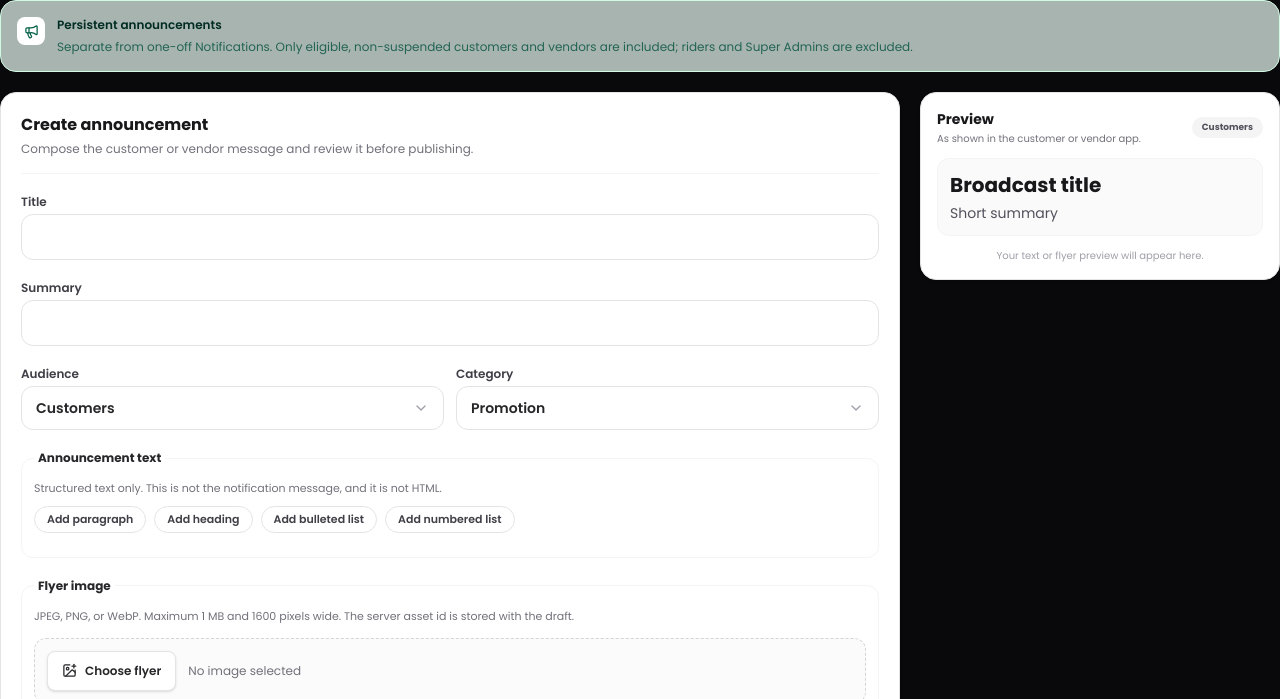
it: Super Admin broadcast › reuses the idempotency key when publish fails and shows a zero-recipient result
Type "Weekend offer" into the field labelled "Title" at (450, 237), box [21, 214, 879, 260]
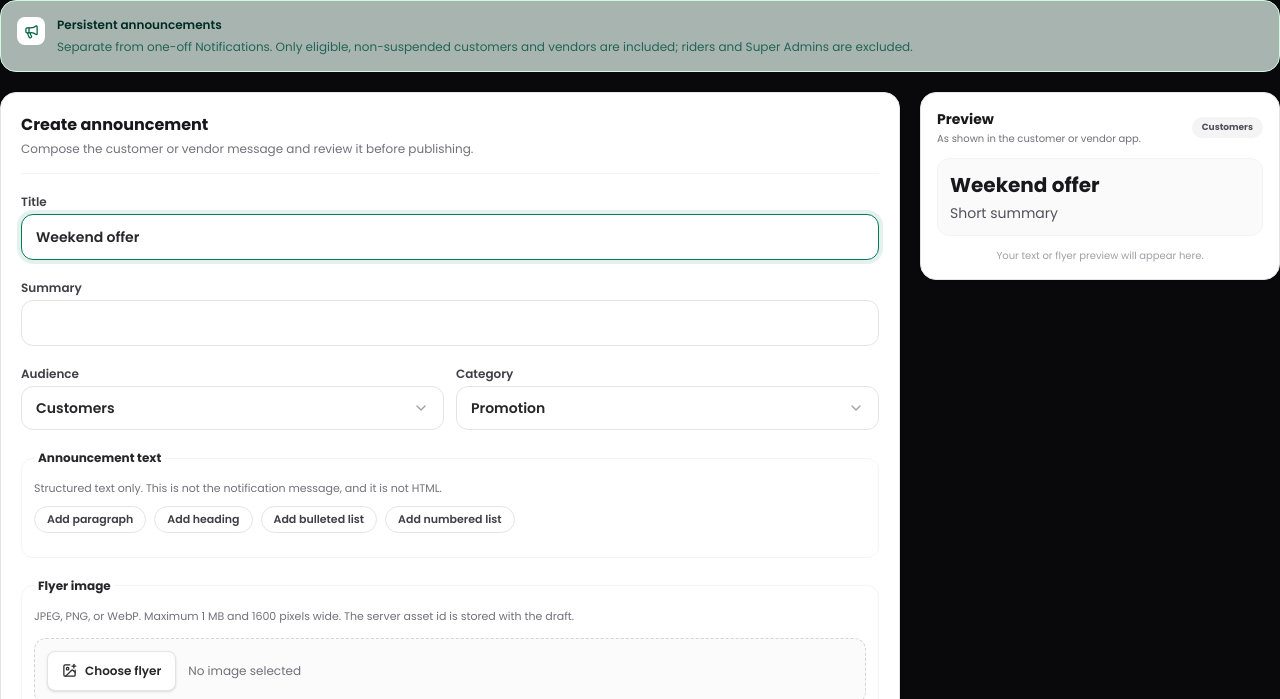
Type "See this weekend’s offer" into the field labelled "Summary" at (450, 323), box [21, 300, 879, 346]
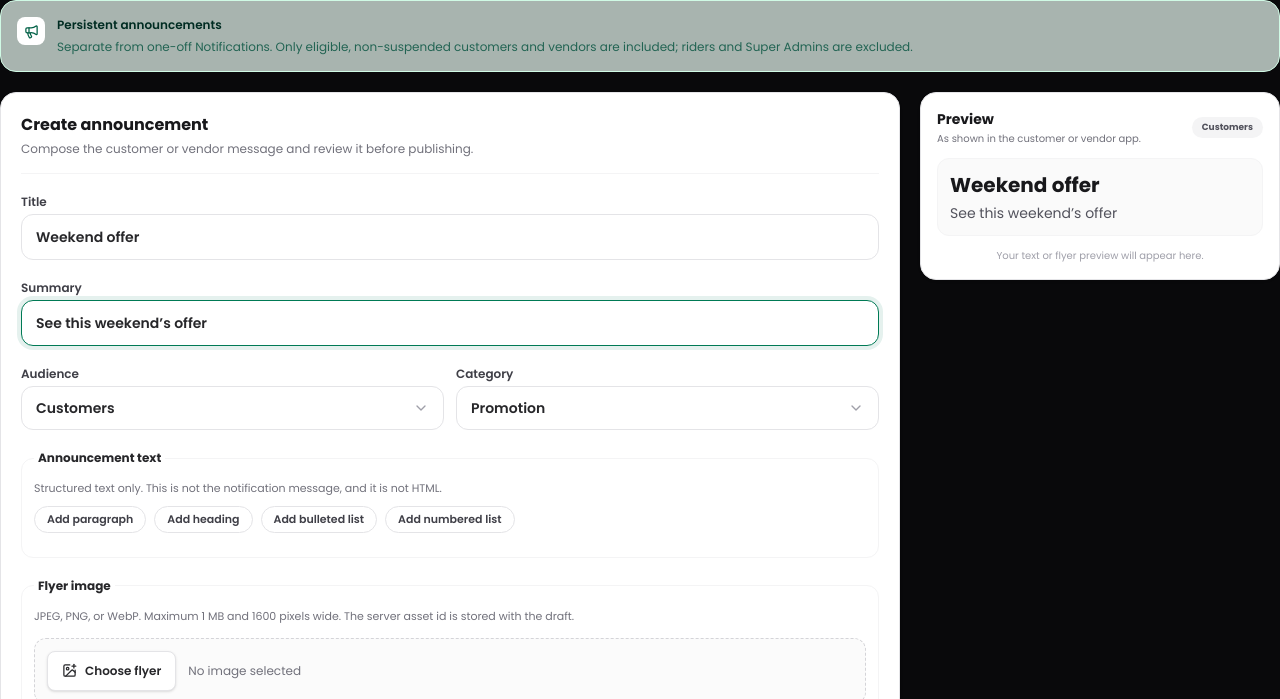
Click the button "Add paragraph" at (90, 519), box [34, 506, 146, 532]
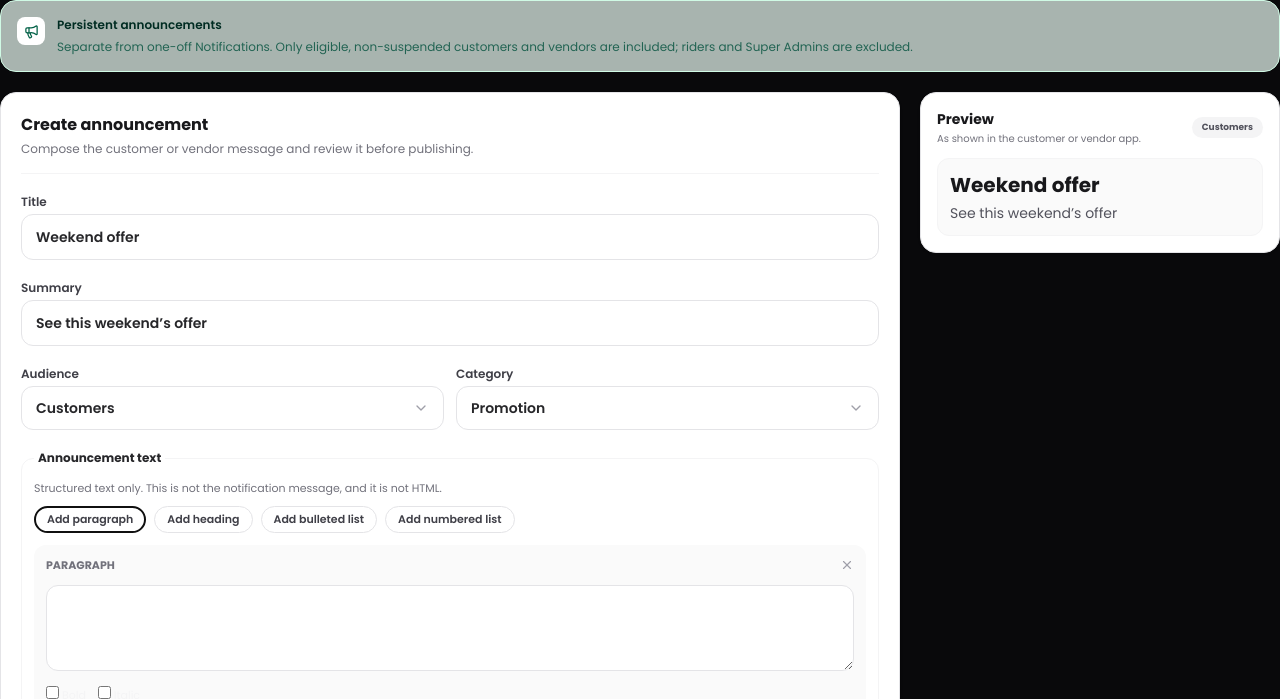
Type "Hello" into the text box named "Block text 1" at (450, 628), box [46, 585, 854, 671]
(page scrolled)
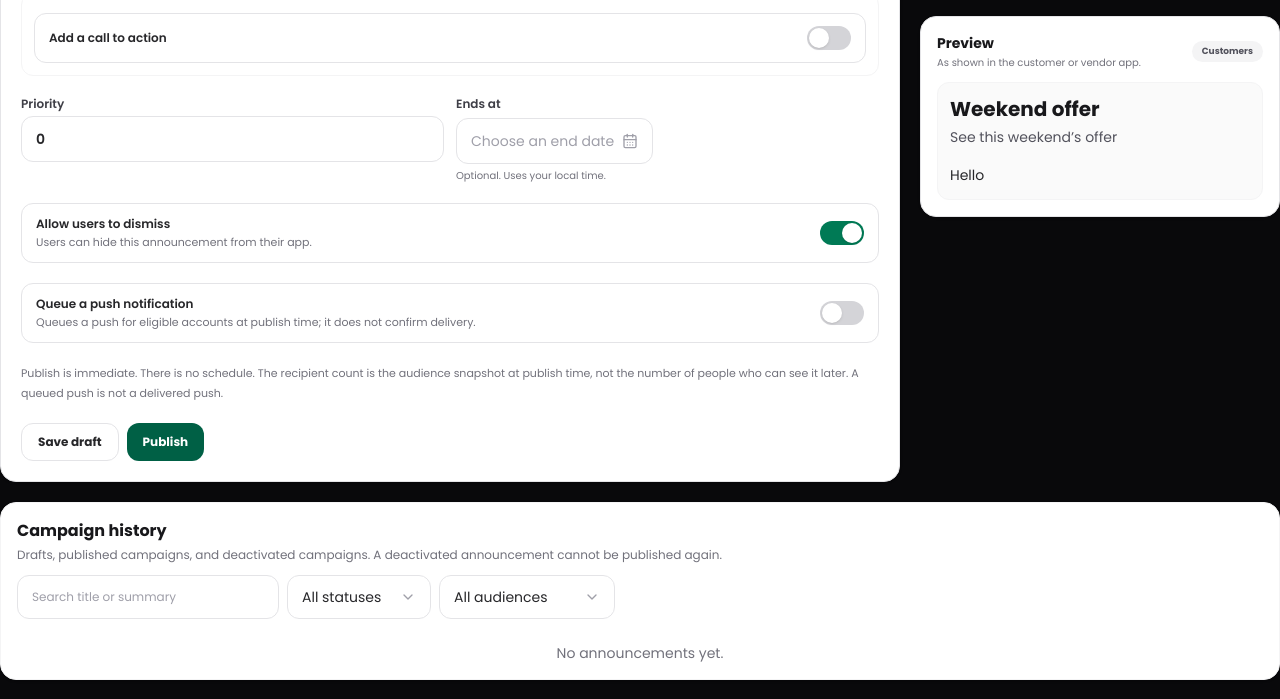
Click the button "Publish" at (165, 442), box [127, 423, 204, 461]
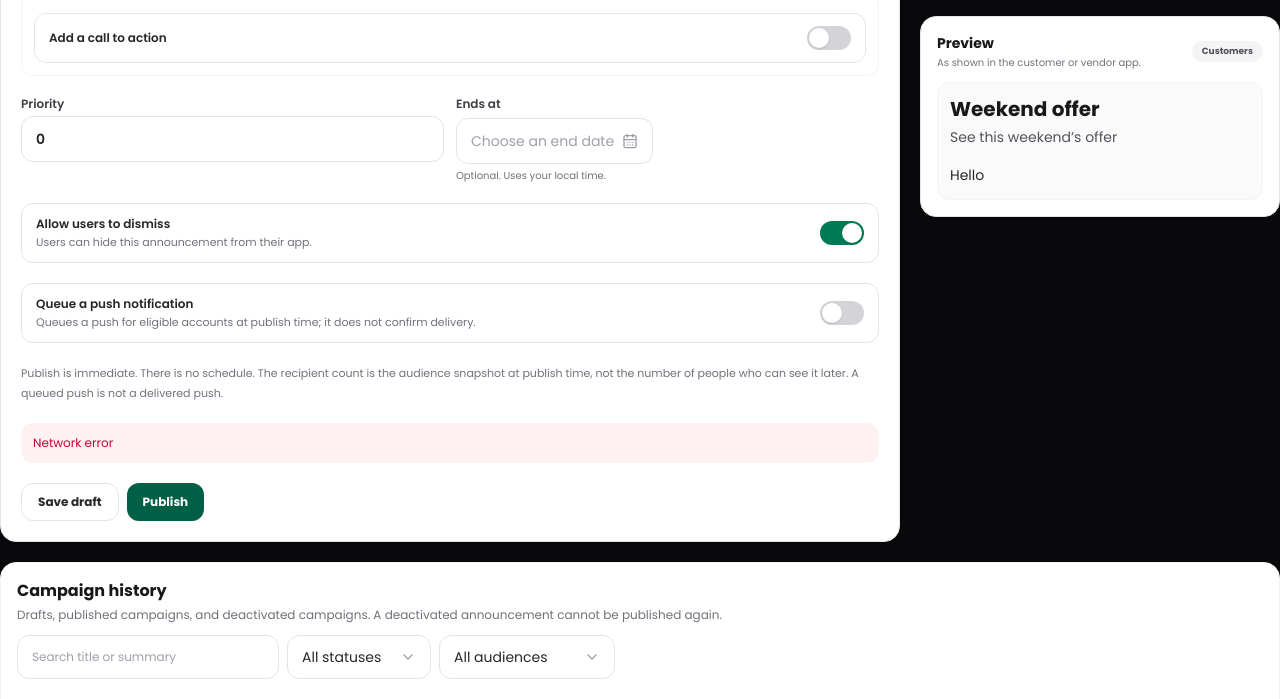
Check: the message reads "Network error", box [33, 434, 113, 451]
Click the button "Publish" at (165, 502), box [127, 483, 204, 521]
(page scrolled)
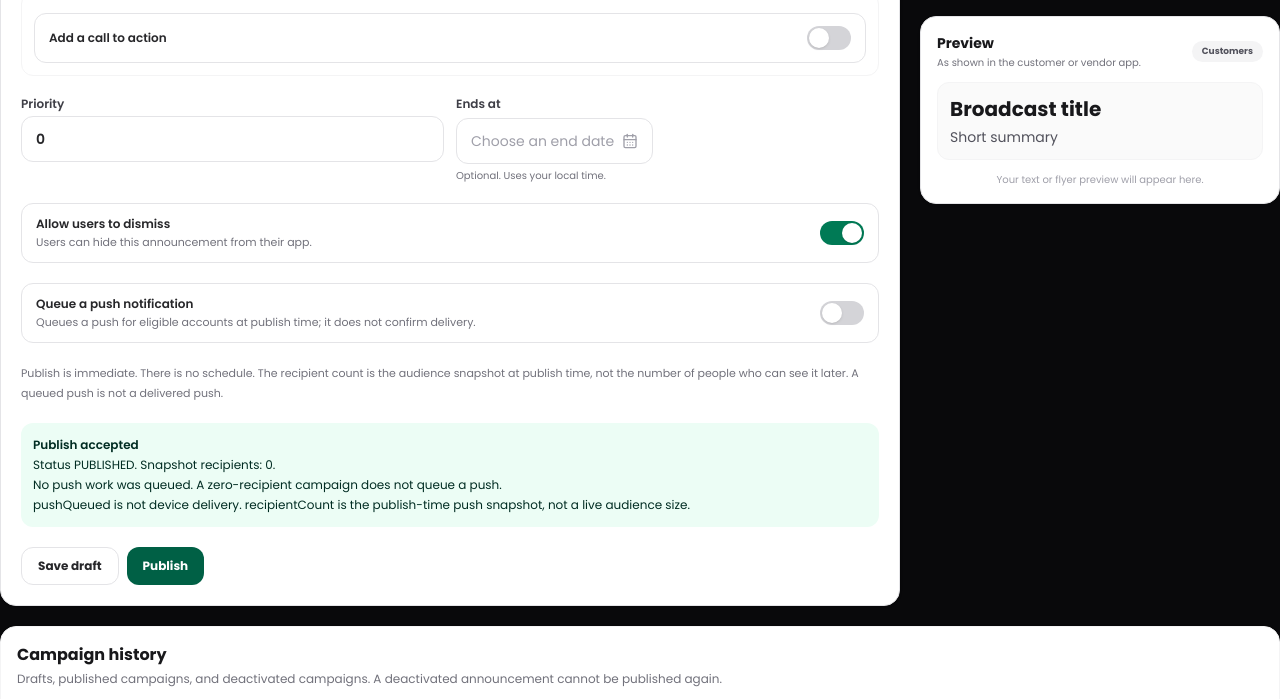
Check: the text "No push work was queued" is shown, box [33, 476, 193, 492]
Check: the text "zero-recipient campaign does not queue a push" is shown, box [196, 476, 502, 492]
